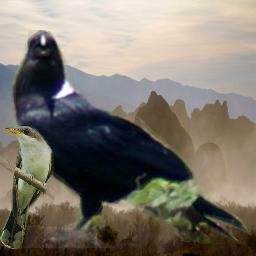Crow: (9, 30, 251, 248)
Cuckoo: (0, 126, 54, 249)
